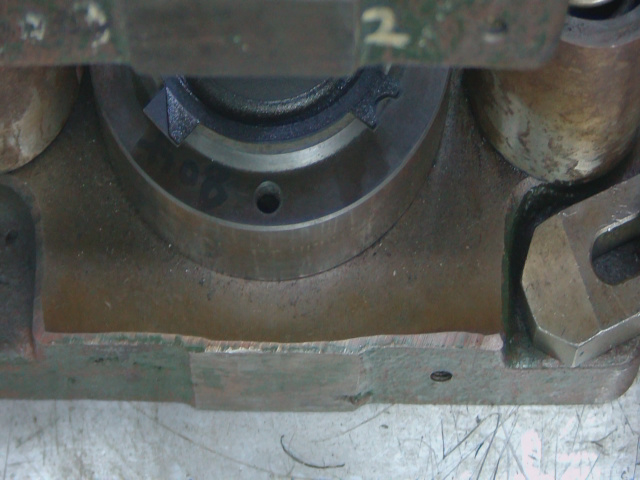HX2: (354, 81, 417, 146)
